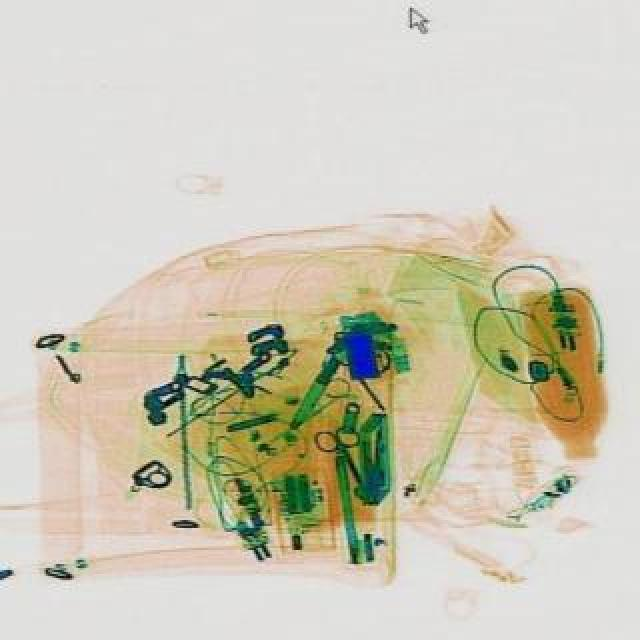pliers: (308, 416, 382, 496)
